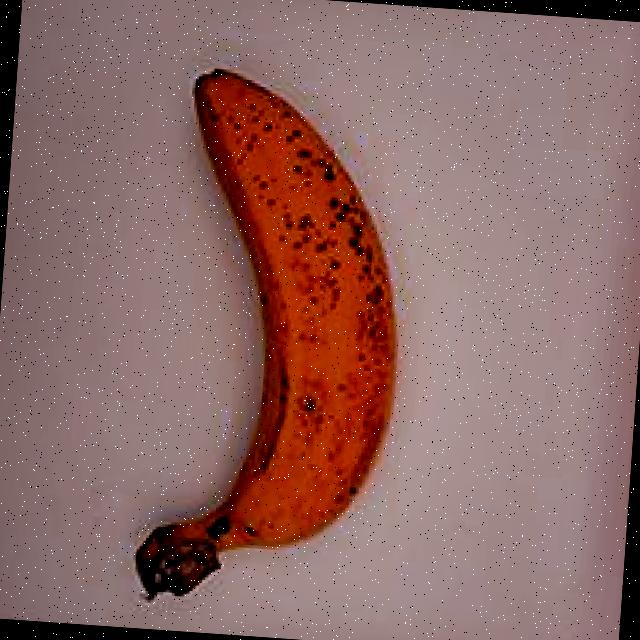Overripe: (66, 25, 450, 640)
